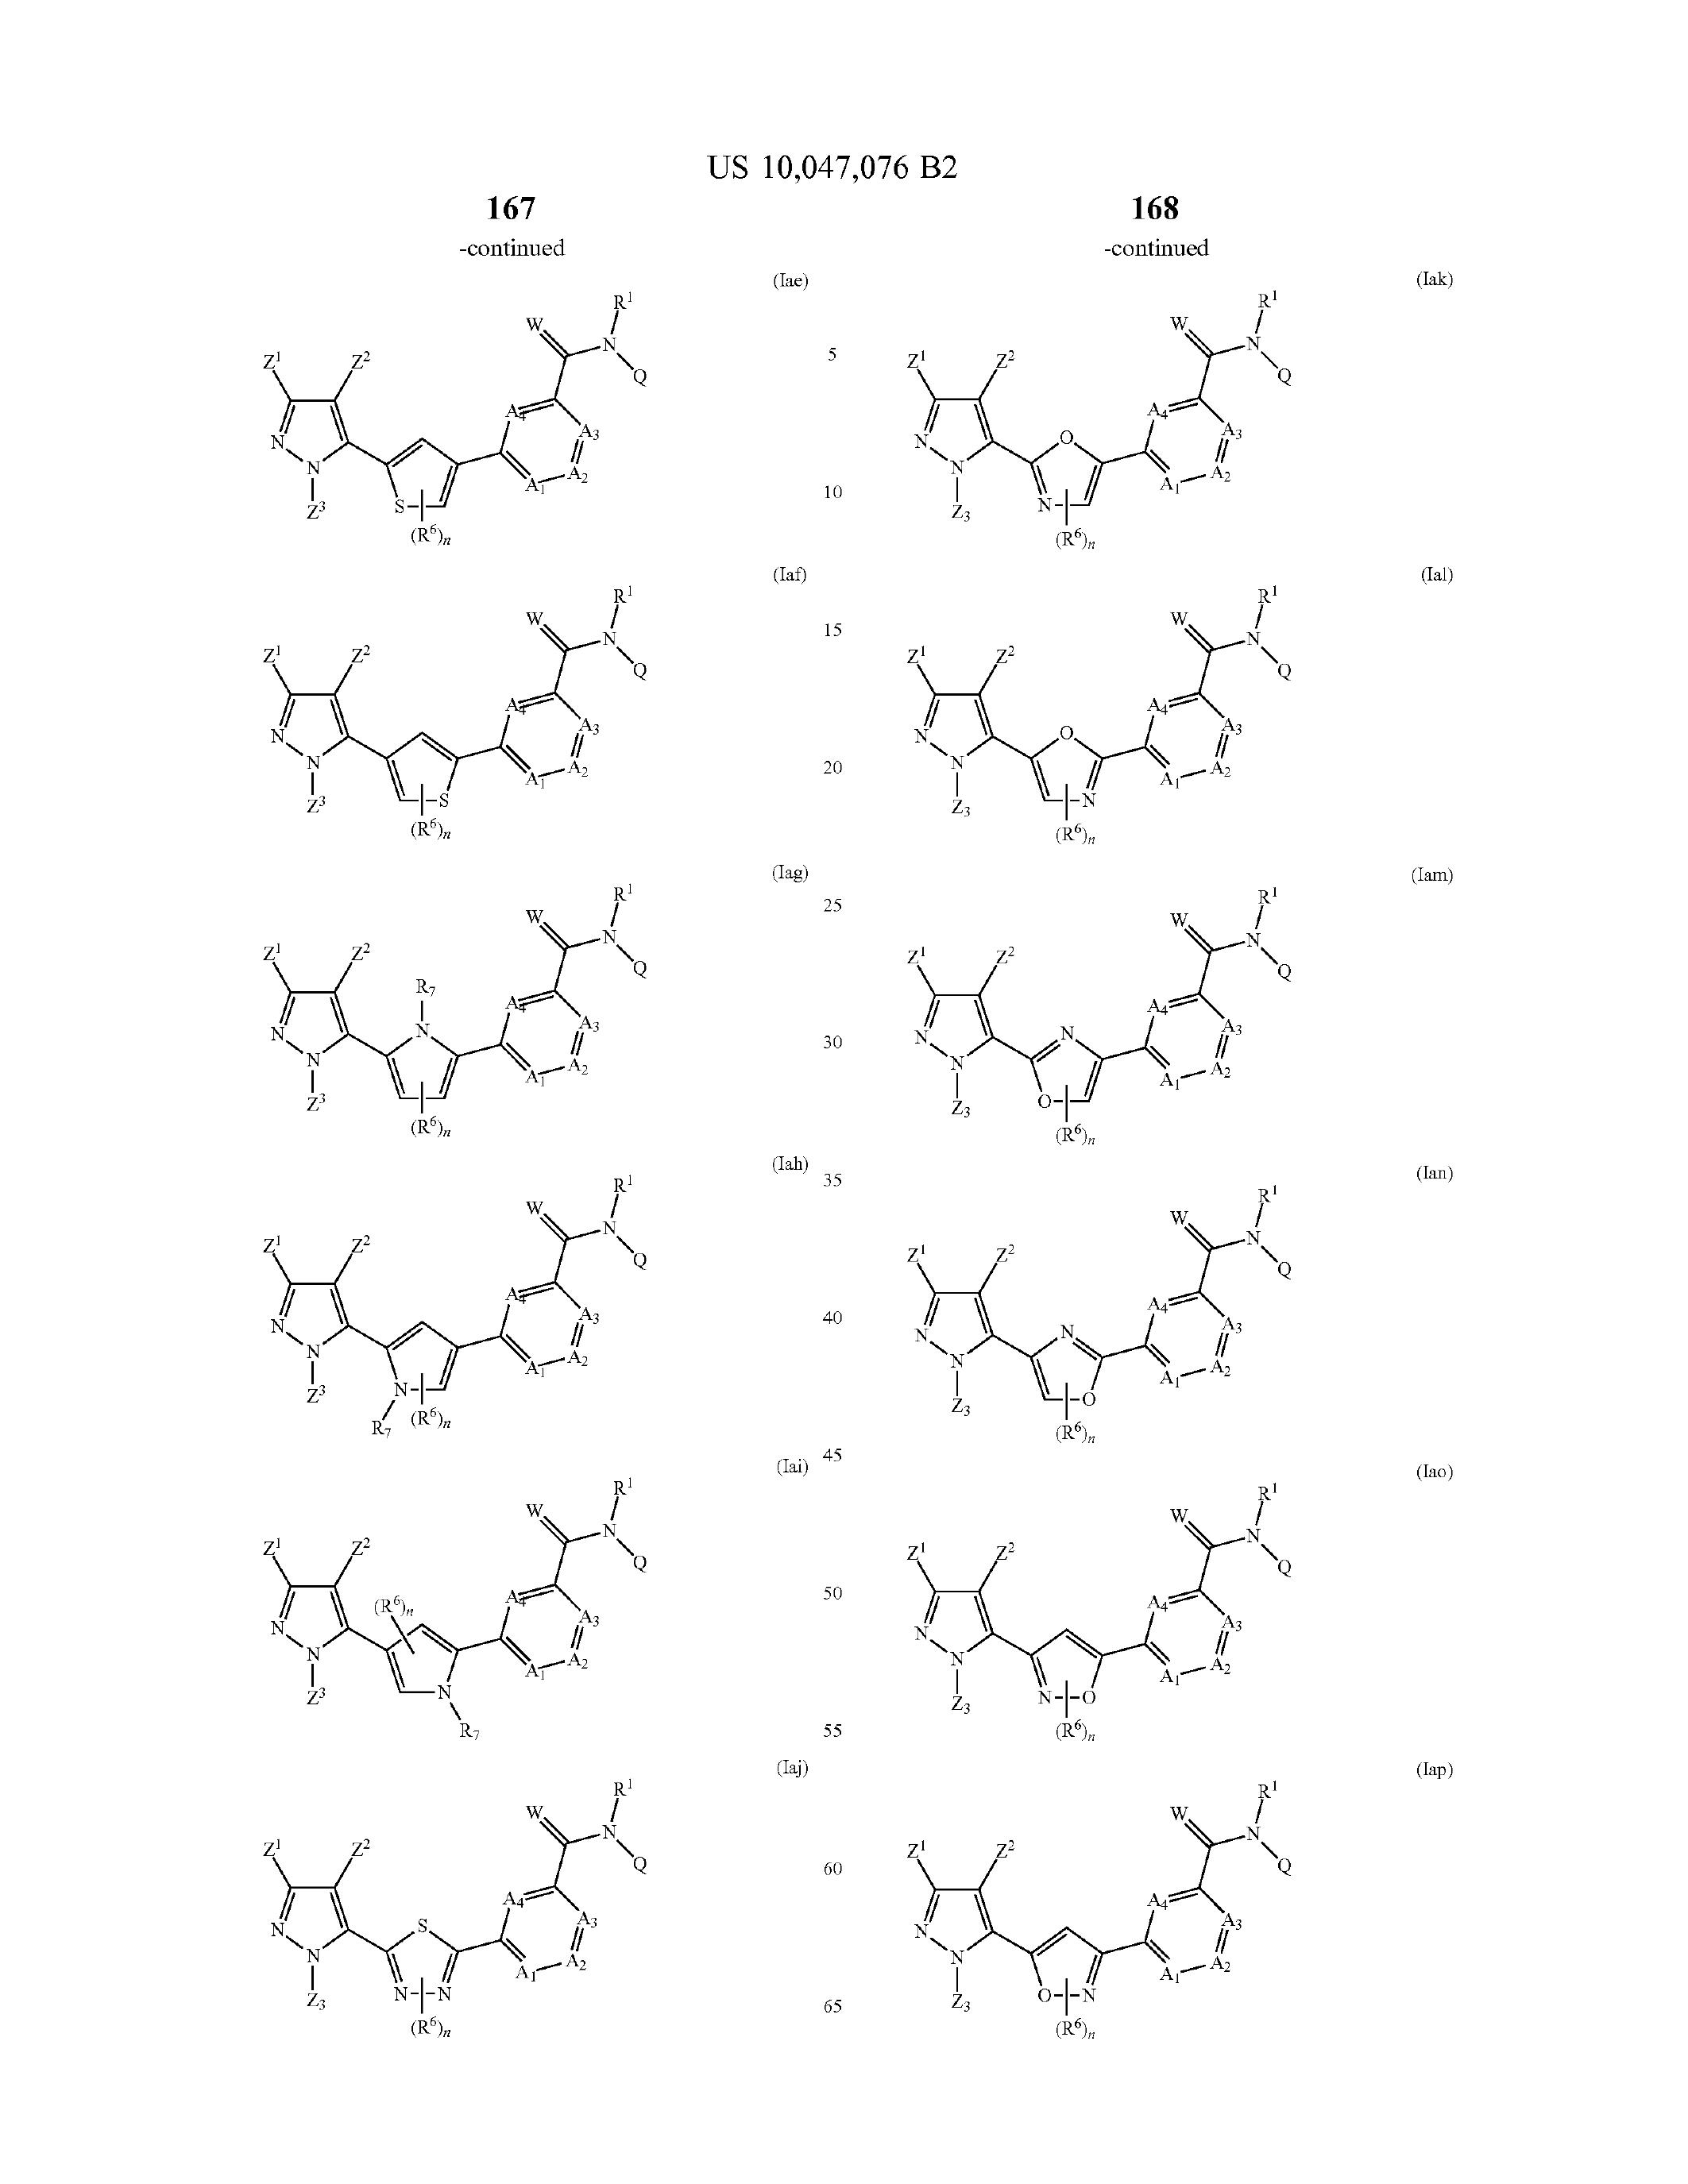markush-structures: (238, 1473, 707, 2115)
